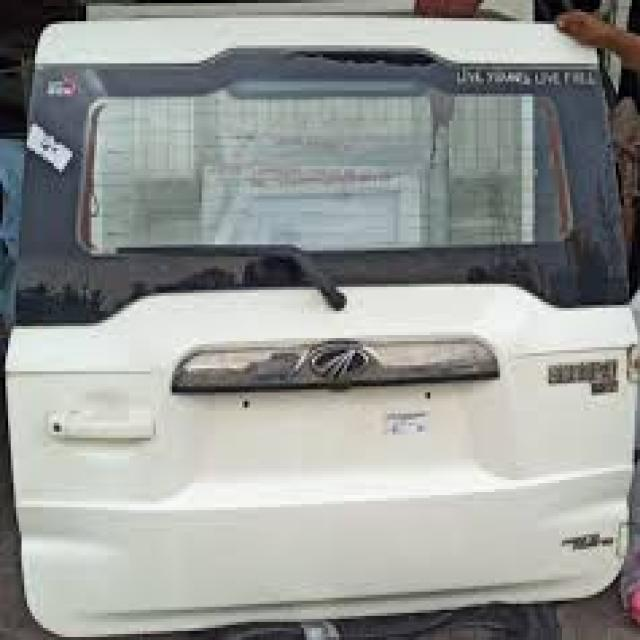Car: (6, 18, 635, 634)
